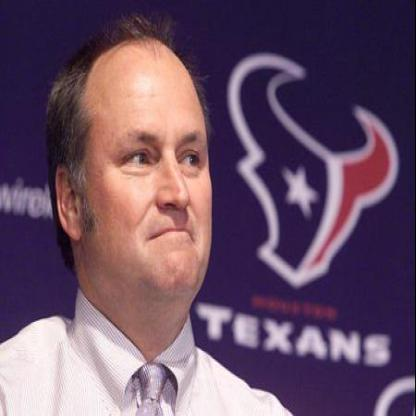face: (75, 30, 225, 327)
